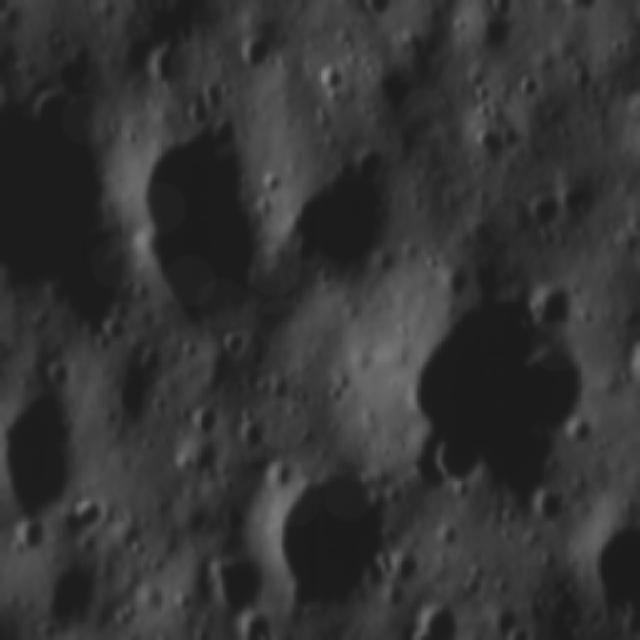crater: (0, 65, 149, 348), (407, 282, 596, 500), (134, 114, 281, 332), (258, 458, 405, 630), (274, 134, 392, 301), (0, 379, 100, 530), (572, 517, 640, 640), (32, 544, 112, 640), (198, 556, 270, 626), (403, 601, 472, 640), (176, 439, 227, 488), (522, 186, 563, 246), (367, 64, 415, 114), (143, 43, 194, 89), (184, 396, 225, 444), (557, 178, 598, 224), (232, 413, 270, 462), (310, 57, 350, 100), (240, 31, 277, 77), (229, 612, 285, 640), (493, 615, 544, 640), (558, 0, 616, 20), (516, 73, 544, 112), (352, 0, 392, 25), (475, 122, 502, 158), (488, 0, 515, 20)
